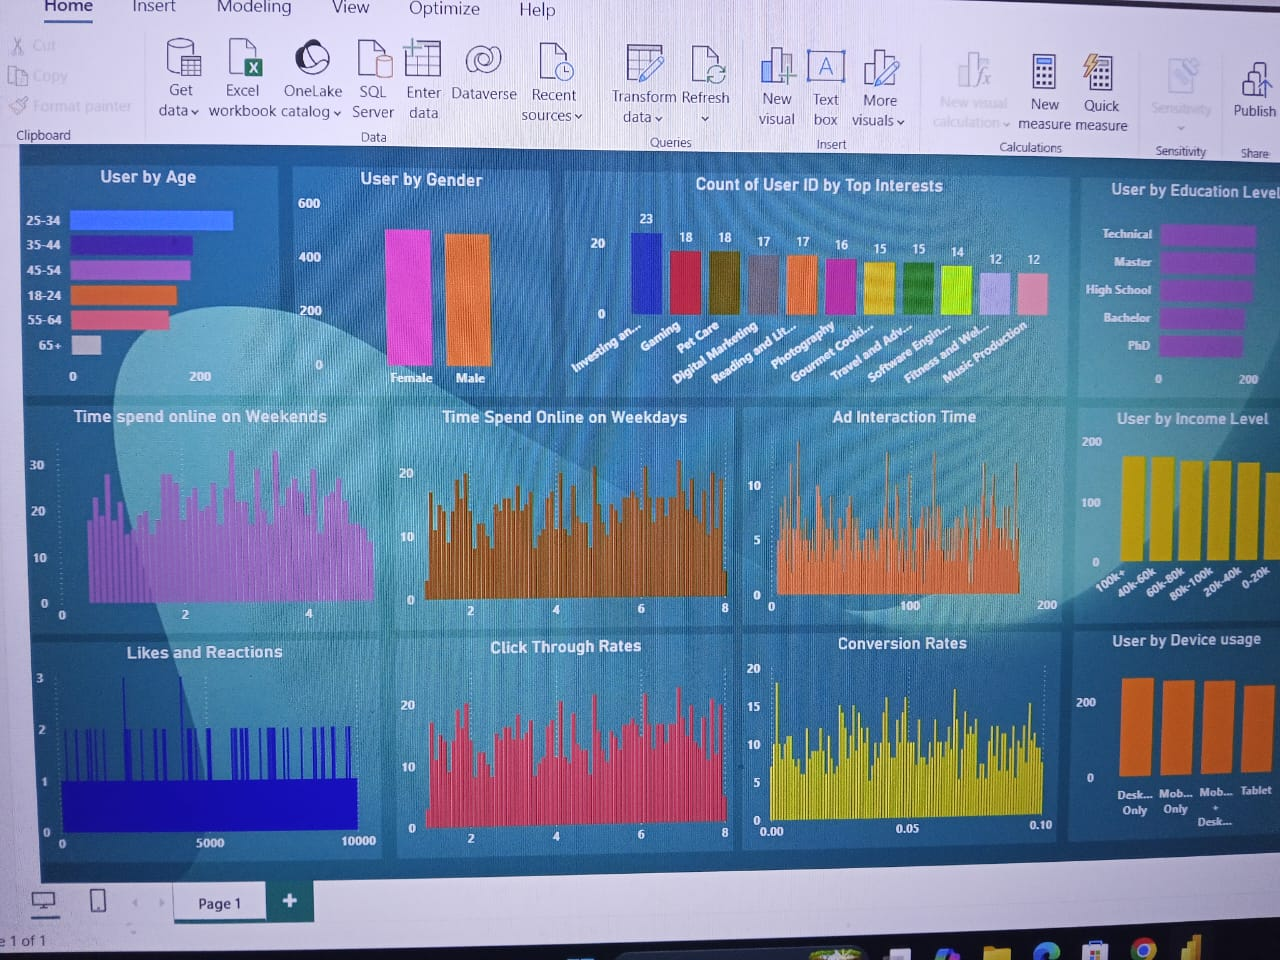

This screenshot's page, from the dashboard's own definition file:
{"tool":"powerbi","page":{"name":"Page 1","canvas":[1280,720],"ordinal":0},"visuals":[{"type":"clusteredBarChart","title":"User by Age","fields":{"Category":["user_profiles_for_ads.Age"],"Y":["CountNonNull(user_profiles_for_ads.User ID)"]},"box":[0,20.6,245.6,219.6],"z":0},{"type":"columnChart","title":"User by Gender","fields":{"Category":["user_profiles_for_ads.Gender"],"Y":["CountNonNull(user_profiles_for_ads.User ID)"]},"box":[259.3,20.6,245.6,219.6],"z":1000},{"type":"clusteredBarChart","title":"User by Education Level","fields":{"Category":["user_profiles_for_ads.Education Level"],"Y":["CountNonNull(user_profiles_for_ads.User ID)"]},"box":[1035.2,20.4,245,219.8],"z":2000},{"type":"columnChart","title":"User by Income Level","fields":{"Category":["user_profiles_for_ads.Income Level"],"Y":["CountNonNull(user_profiles_for_ads.User ID)"]},"box":[1035.2,251,245,219.8],"z":3000},{"type":"columnChart","title":"User by Device usage","fields":{"Category":["user_profiles_for_ads.Device Usage"],"Y":["CountNonNull(user_profiles_for_ads.User ID)"]},"box":[1035.2,479.2,245,219.8],"z":4000},{"type":"clusteredColumnChart","title":"Likes and Reactions","fields":{"Category":["user_profiles_for_ads.Likes and Reactions"],"Y":["CountNonNull(user_profiles_for_ads.User ID)"]},"box":[0,479.2,336,219.8],"z":5000},{"type":"columnChart","title":"Click Through Rates","fields":{"Y":["CountNonNull(user_profiles_for_ads.User ID)"],"Category":["user_profiles_for_ads.Time Spent Online (hrs/weekend)"]},"box":[350.7,479.2,336.3,219.8],"z":6000},{"type":"columnChart","title":"Time spend online on Weekends","fields":{"Category":["user_profiles_for_ads.Time Spent Online (hrs/weekday)"],"Y":["CountNonNull(user_profiles_for_ads.User ID)"]},"box":[0,249.8,336.3,221],"z":7000},{"type":"columnChart","title":"Time Spend Online on Weekdays","fields":{"Y":["CountNonNull(user_profiles_for_ads.User ID)"],"Category":["user_profiles_for_ads.Time Spent Online (hrs/weekend)"]},"box":[350.7,249.8,336.3,221],"z":8000},{"type":"columnChart","title":"Ad Interaction Time","fields":{"Y":["CountNonNull(user_profiles_for_ads.User ID)"],"Category":["user_profiles_for_ads.Ad Interaction Time (sec)"]},"box":[696.6,249.8,326.7,219.8],"z":9000},{"type":"columnChart","title":"Conversion Rates","fields":{"Y":["CountNonNull(user_profiles_for_ads.User ID)"],"Category":["user_profiles_for_ads.Conversion Rates"]},"box":[696.6,479.2,326.7,219.8],"z":10000},{"type":"columnChart","fields":{"Y":["CountNonNull(user_profiles_for_ads.User ID)"],"Category":["user_profiles_for_ads.Top Interests"]},"box":[519,20,504.7,219.6],"z":11000}]}

Visuals, with their boxes on the page's 1280x720 design canvas (x1, y1, x2, y2). These are canvas units, not pixel positions in the 1280x960 screenshot, which may show the page scaled, cropped or inside an application window:
"User by Age" clusteredBarChart: detection(0, 21, 246, 240)
"User by Gender" columnChart: detection(259, 21, 505, 240)
"User by Education Level" clusteredBarChart: detection(1035, 20, 1280, 240)
"User by Income Level" columnChart: detection(1035, 251, 1280, 471)
"User by Device usage" columnChart: detection(1035, 479, 1280, 699)
"Likes and Reactions" clusteredColumnChart: detection(0, 479, 336, 699)
"Click Through Rates" columnChart: detection(351, 479, 687, 699)
"Time spend online on Weekends" columnChart: detection(0, 250, 336, 471)
"Time Spend Online on Weekdays" columnChart: detection(351, 250, 687, 471)
"Ad Interaction Time" columnChart: detection(697, 250, 1023, 470)
"Conversion Rates" columnChart: detection(697, 479, 1023, 699)
columnChart - CountNonNull(user_profiles_for_ads.User ID) x user_profiles_for_ads.Top Interests: detection(519, 20, 1024, 240)
